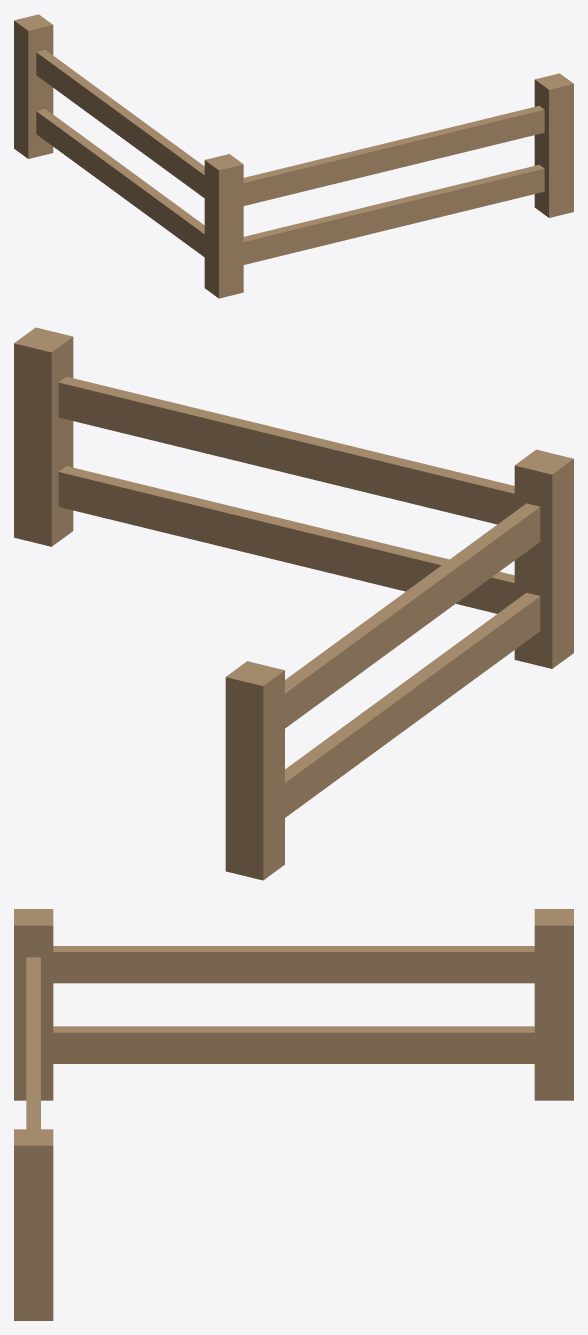
File: kenney_nature-kit__fence_corner.fbx
3 views of the same model, one above another, from view 1: azimuth 30°, elevation 25°; view 2: azimuth 150°, elevation 25°; view 3: azimuth 270°, elevation 25° (orthographic). The views are drawn at different scales.
Visible parts, largest first — view 1: kenney_nature-kit__fence_corner__meadow_wood; view 2: kenney_nature-kit__fence_corner__meadow_wood; view 3: kenney_nature-kit__fence_corner__meadow_wood.
Boxes of the visible parts, <box> form: kenney_nature-kit__fence_corner__meadow_wood: <box>14,14,573,298</box>; kenney_nature-kit__fence_corner__meadow_wood: <box>14,327,573,880</box>; kenney_nature-kit__fence_corner__meadow_wood: <box>14,909,573,1320</box>.
Bounding box in the file's own units: 3.57 × 1.23 × 3.57.
